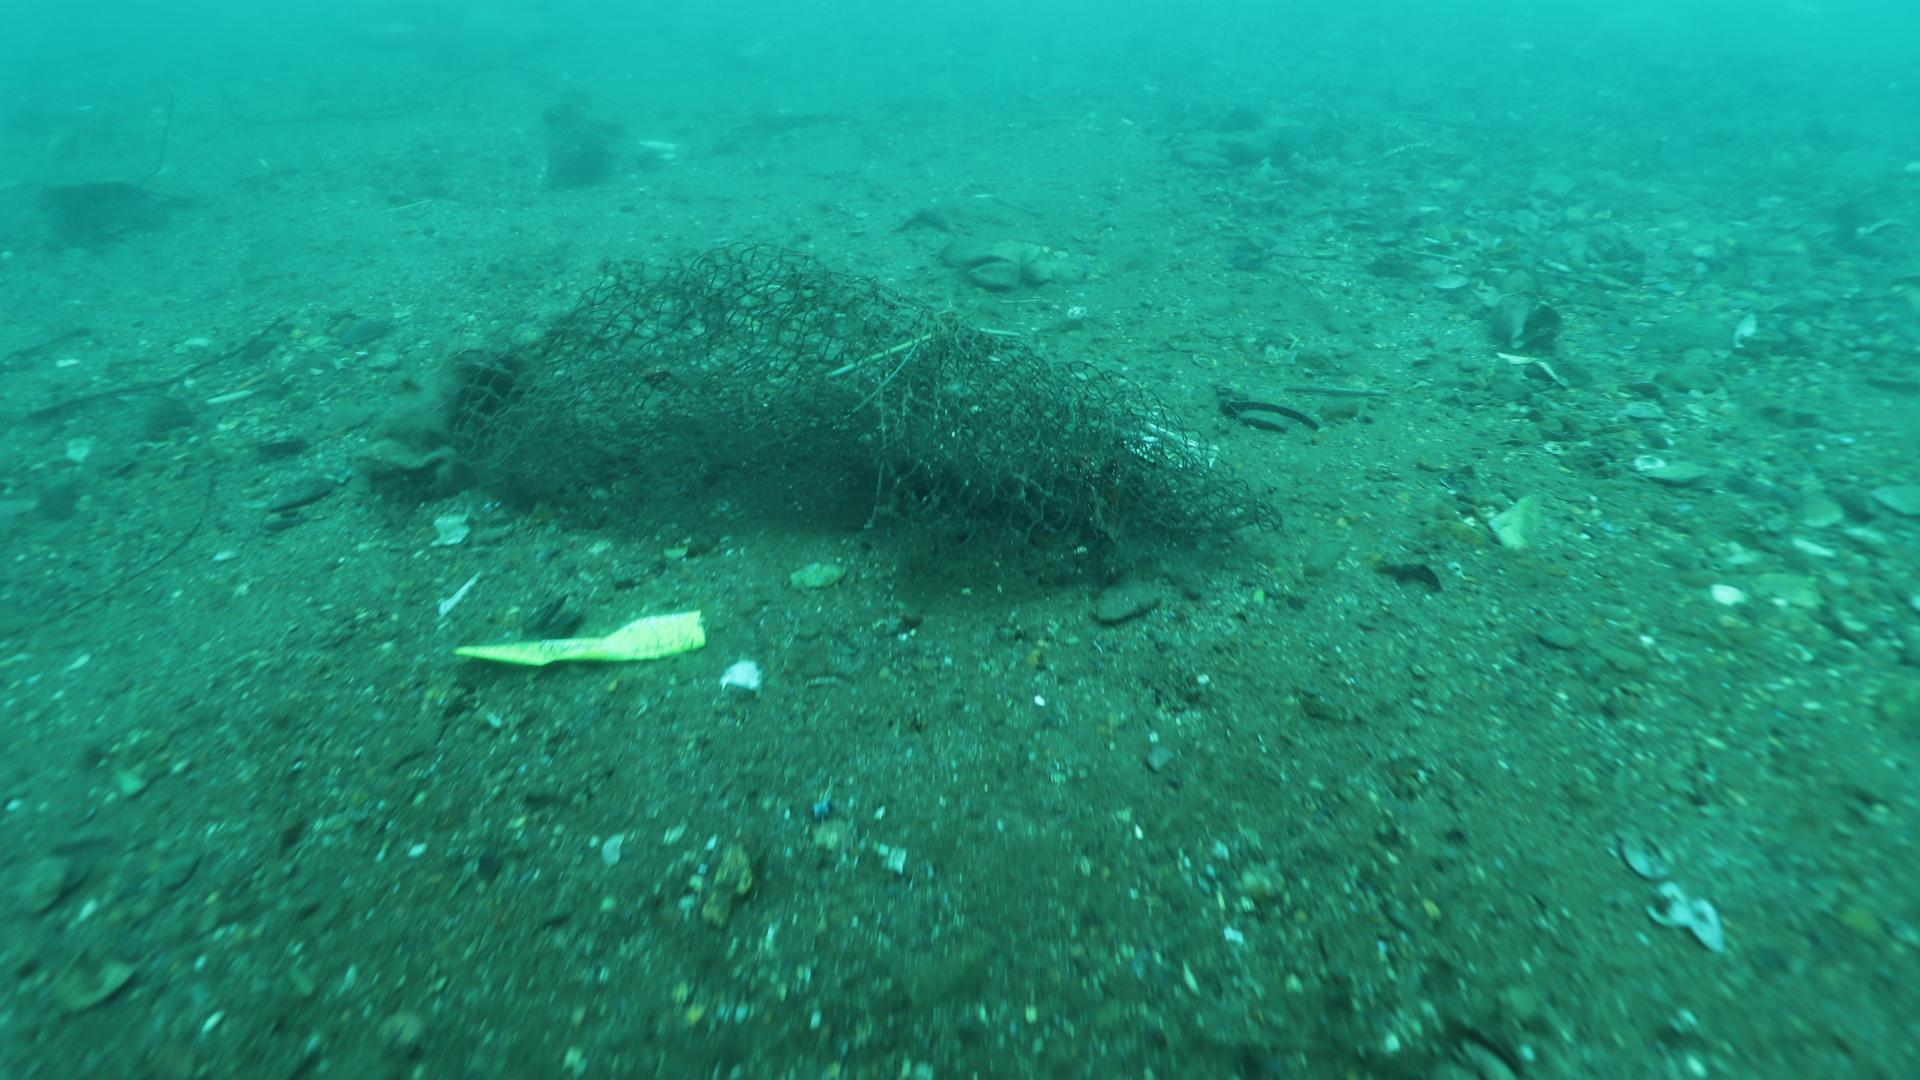fish net: (448, 237, 1287, 547)
